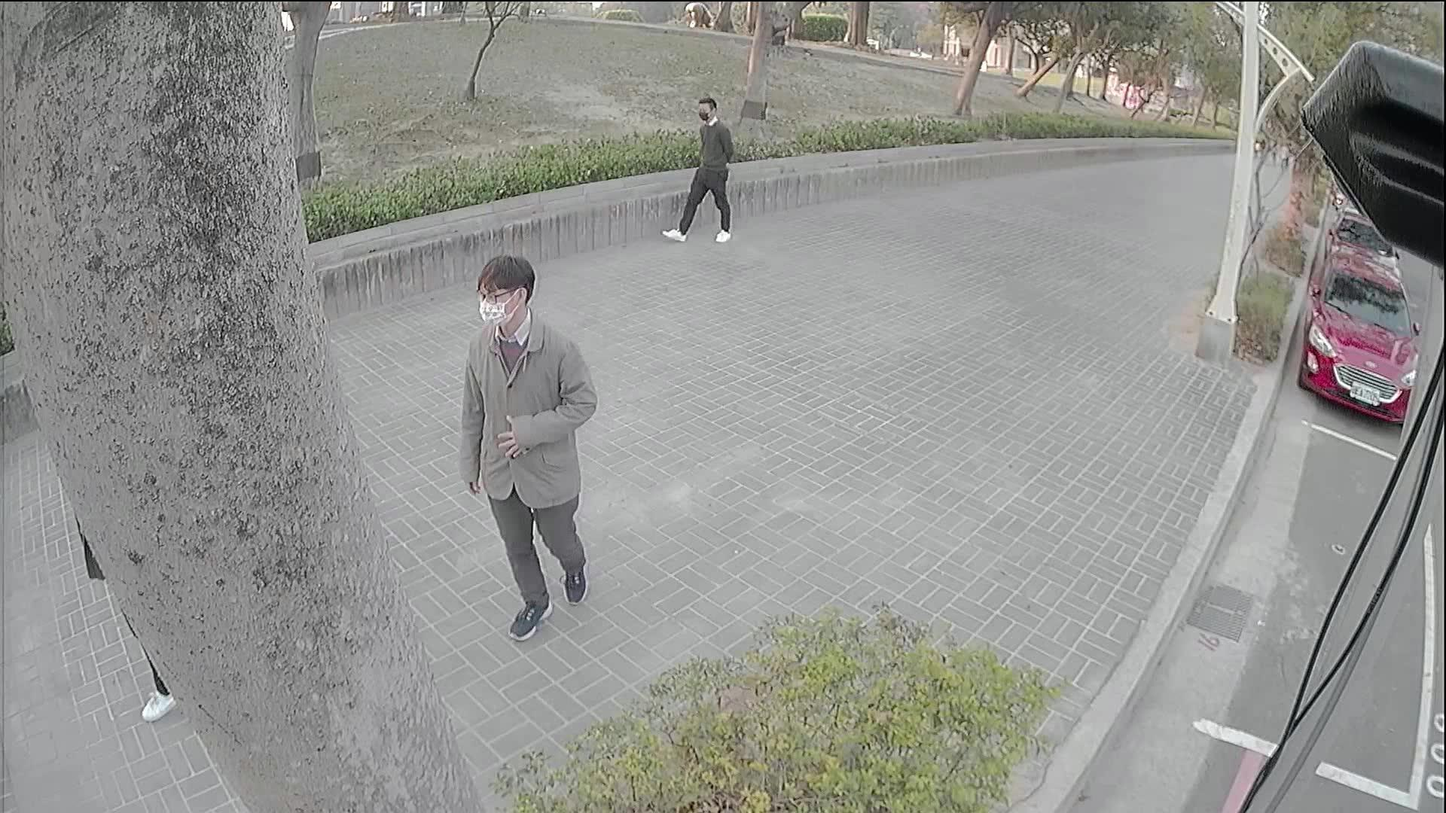person: (459, 254, 596, 641), (663, 94, 742, 239)
